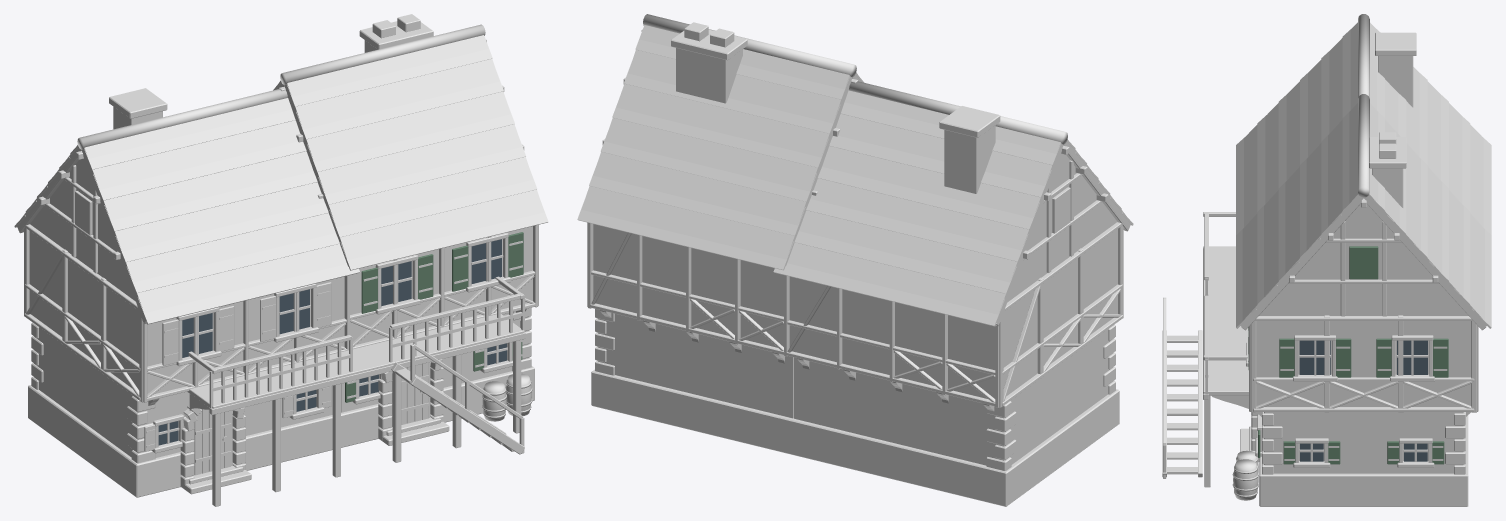
The model's file is col_15_collees_balcon_escalier.fbx.
3 renders of one model, left to right at view 1: azimuth 30°, elevation 25°; view 2: azimuth 150°, elevation 25°; view 3: azimuth 270°, elevation 25°, orthographic. The views are drawn at different scales.
Visible parts, largest first — view 1: col_15_collees_balcon_escalier_LOD0; view 2: col_15_collees_balcon_escalier_LOD0; view 3: col_15_collees_balcon_escalier_LOD0.
Boxes of the visible parts, x1,y1,x2,y2 form: col_15_collees_balcon_escalier_LOD0: [14, 14, 548, 506]; col_15_collees_balcon_escalier_LOD0: [577, 14, 1133, 506]; col_15_collees_balcon_escalier_LOD0: [1162, 14, 1491, 506].
Size of what is drawn, in the model's own units: 11.28 by 9.19 by 8.24.
